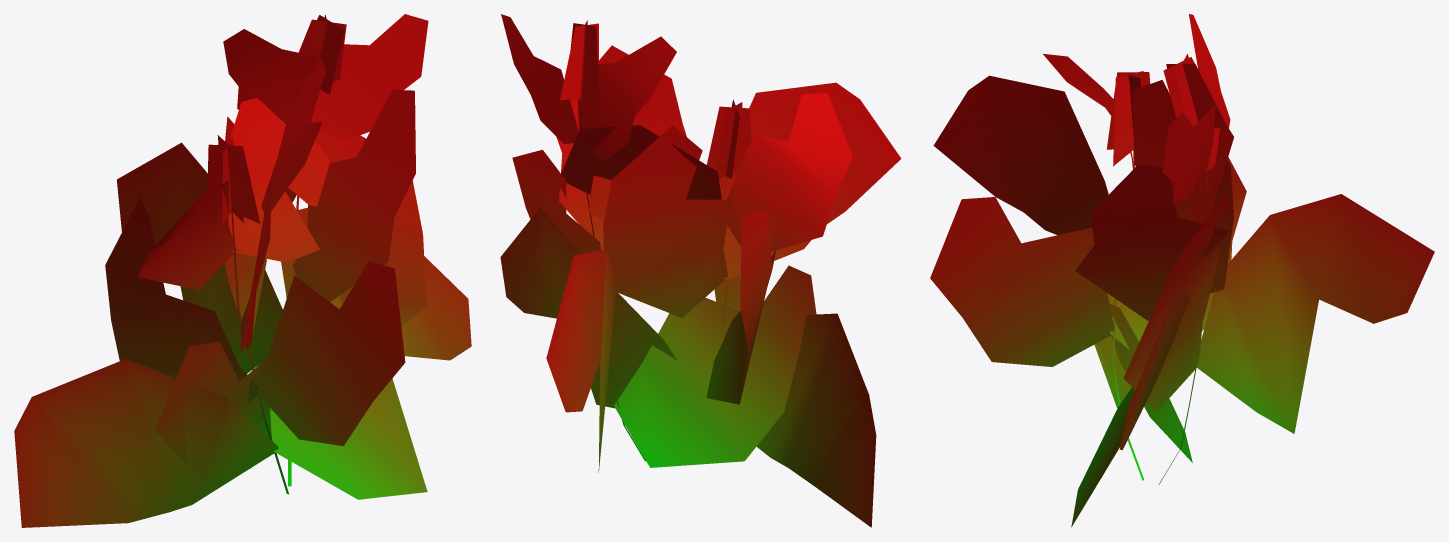
The model's file is White Ramping Fumitory_LOD3_Var3_ti4efc3ia.fbx.
3 renders of one model, left to right at view 1: azimuth 30°, elevation 25°; view 2: azimuth 150°, elevation 25°; view 3: azimuth 270°, elevation 25°, orthographic. The views are drawn at different scales.
Visible parts, largest first — view 1: _5655_Var3_LOD3; view 2: _5655_Var3_LOD3; view 3: _5655_Var3_LOD3.
Boxes of the visible parts, <box> form: _5655_Var3_LOD3: <box>14,14,471,527</box>; _5655_Var3_LOD3: <box>500,14,901,527</box>; _5655_Var3_LOD3: <box>930,14,1434,527</box>.
Size of the model in its own units: 64.38 by 66.55 by 66.78.
